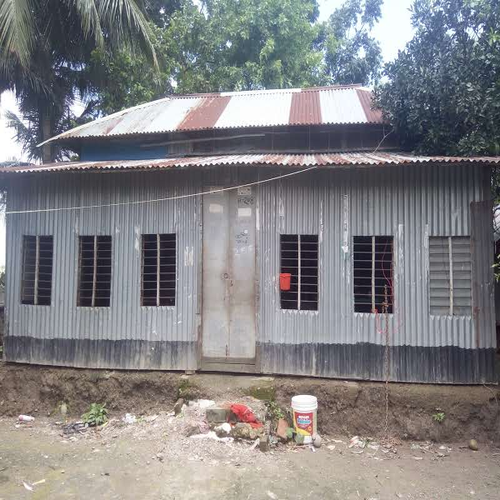Tin-shade House: (7, 80, 481, 398)
